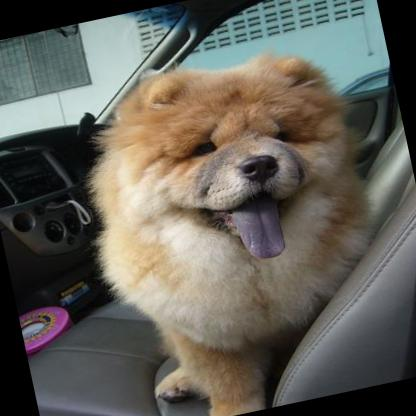chow: (63, 18, 416, 416)
